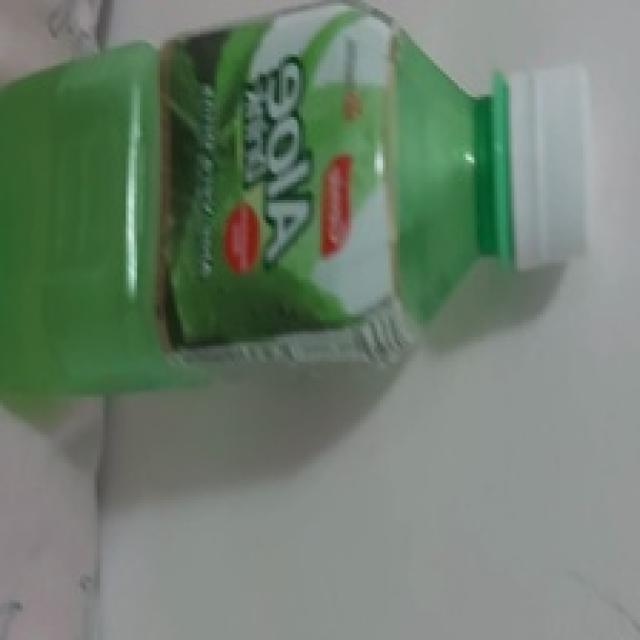plastic: (0, 22, 613, 428)
